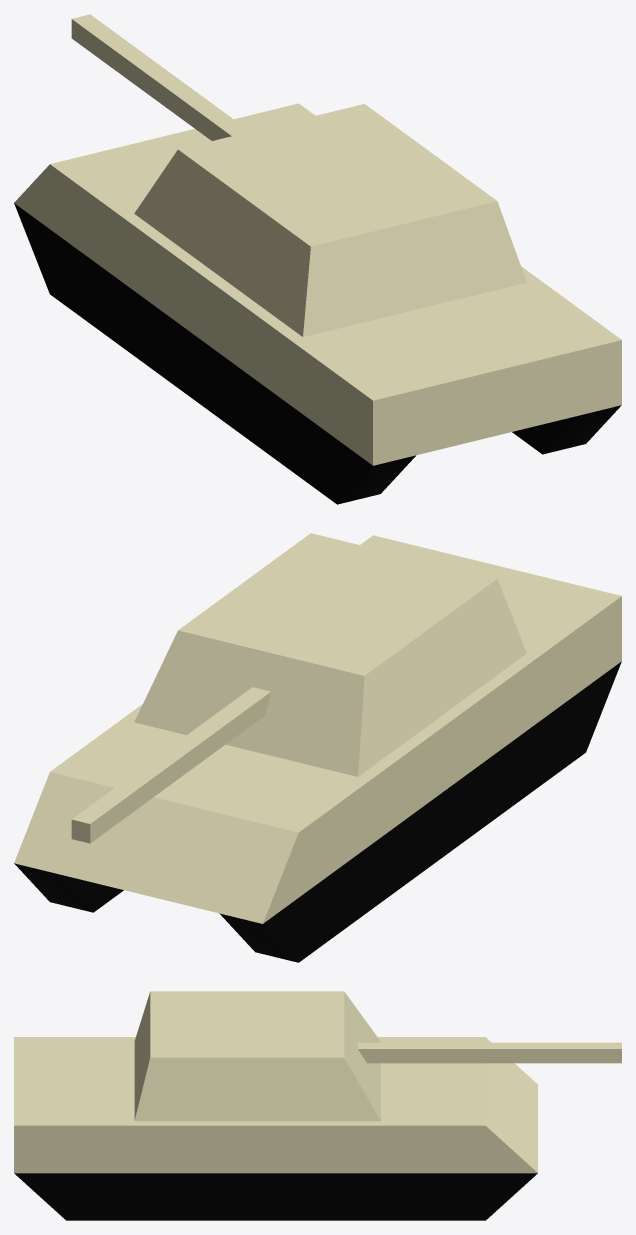
The picture shows the model from 3 angles, top to bottom: view 1: azimuth 30°, elevation 25°; view 2: azimuth 150°, elevation 25°; view 3: azimuth 270°, elevation 25°; orthographic projection. The views are drawn at different scales.
Visible parts, largest first — view 1: Body, Turret; view 2: Body, Turret; view 3: Body, Turret.
Boxes of the visible parts, <box> form: Body: <box>14,103,621,504</box>; Turret: <box>71,14,526,336</box>; Body: <box>14,535,621,962</box>; Turret: <box>71,533,526,843</box>; Body: <box>14,1037,537,1220</box>; Turret: <box>134,991,621,1121</box>.
Bounding box in the file's own units: 4 × 3.2 × 11.6.
